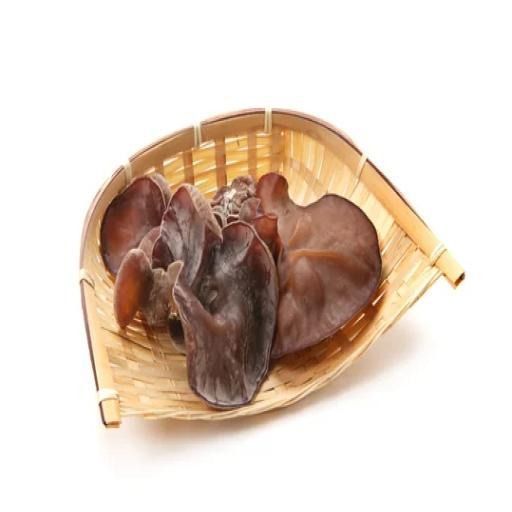mushroom: (255, 169, 387, 361), (85, 158, 219, 333), (170, 218, 281, 418)
